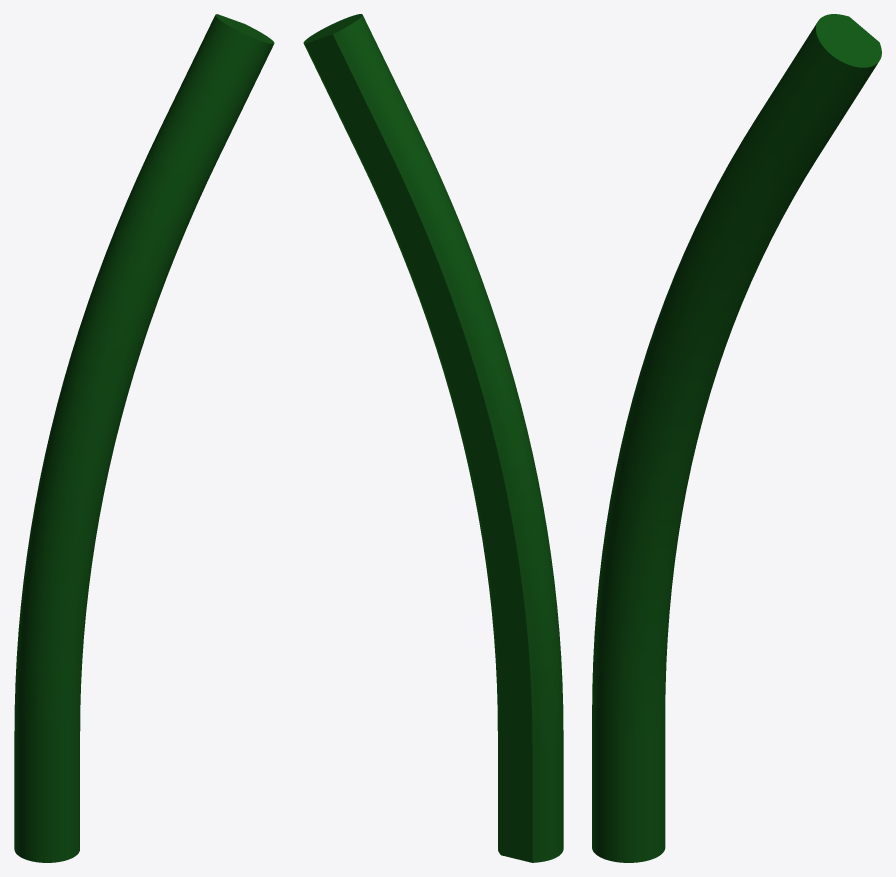
The model's file is stem_3B_30_R.glb.
3 views of the same model, side by side, from view 1: azimuth 30°, elevation 25°; view 2: azimuth 150°, elevation 25°; view 3: azimuth 330°, elevation 25° (orthographic). The views are drawn at different scales.
Visible parts, largest first — view 1: stem_3B_30_R; view 2: stem_3B_30_R; view 3: stem_3B_30_R.
Part boxes in pixels (x1,y1,x2,y2): stem_3B_30_R: (14,14,274,862); stem_3B_30_R: (303,14,563,862); stem_3B_30_R: (592,14,881,862).
Size of the model in its own units: 0.0317 by 0.0951 by 0.00666.
